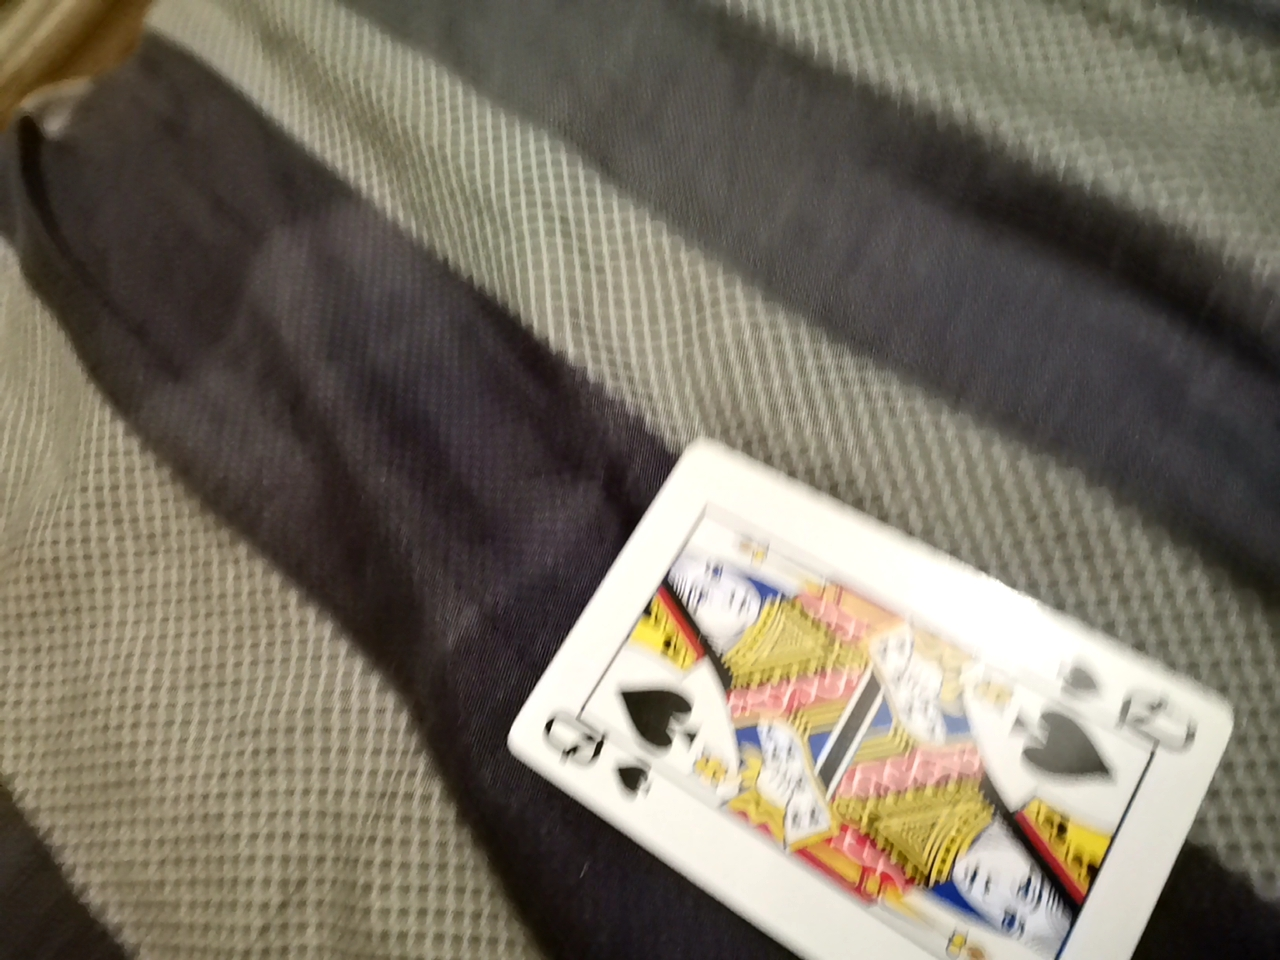ht q: (512, 415, 1229, 953)
